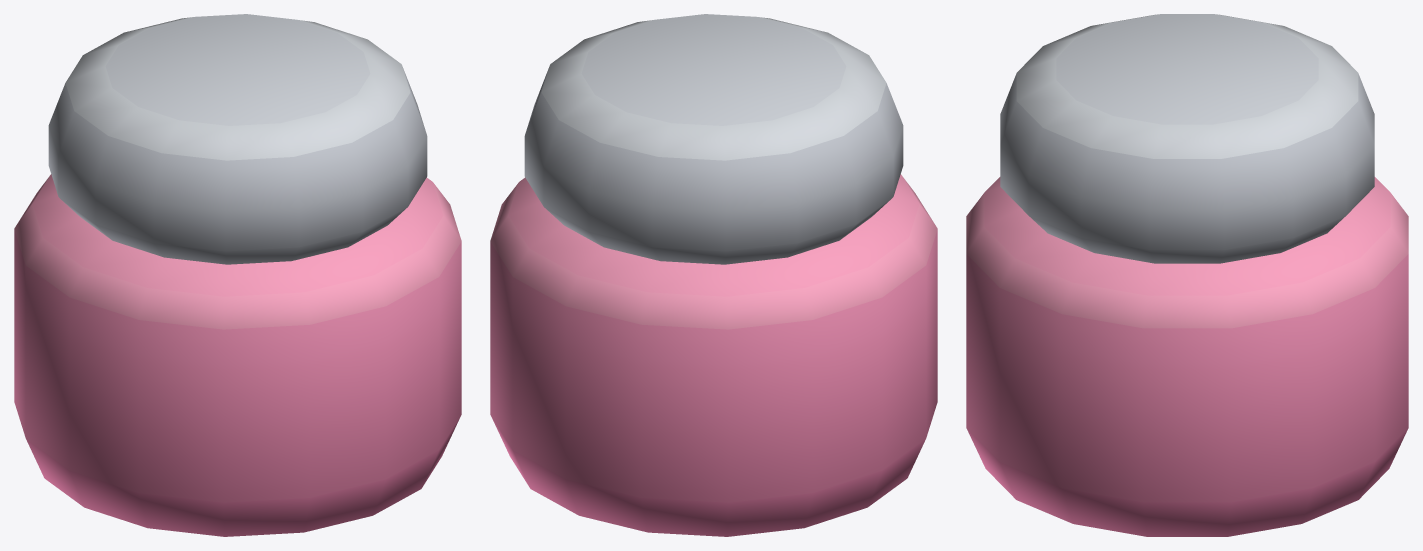
The model's file is container_bathroom_C_pink.fbx.
3 views of the same model, side by side, from view 1: azimuth 30°, elevation 25°; view 2: azimuth 150°, elevation 25°; view 3: azimuth 270°, elevation 25° (orthographic).
Visible parts, largest first — view 1: container_bathroom_C_pink; view 2: container_bathroom_C_pink; view 3: container_bathroom_C_pink.
Part boxes in pixels (left/top/right/bottom): container_bathroom_C_pink: left=14, top=14, right=461, bottom=536; container_bathroom_C_pink: left=490, top=14, right=937, bottom=536; container_bathroom_C_pink: left=966, top=14, right=1408, bottom=536.
Size of the model in its own units: 0.312 by 0.3119 by 0.3126.
